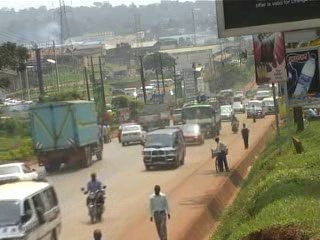Car: (0, 160, 46, 189), (118, 122, 148, 145), (178, 121, 206, 143), (115, 121, 135, 142), (170, 105, 183, 127), (229, 97, 244, 116), (220, 101, 231, 121), (233, 92, 245, 103)
Motorcycle: (77, 176, 107, 223), (229, 113, 240, 135)
